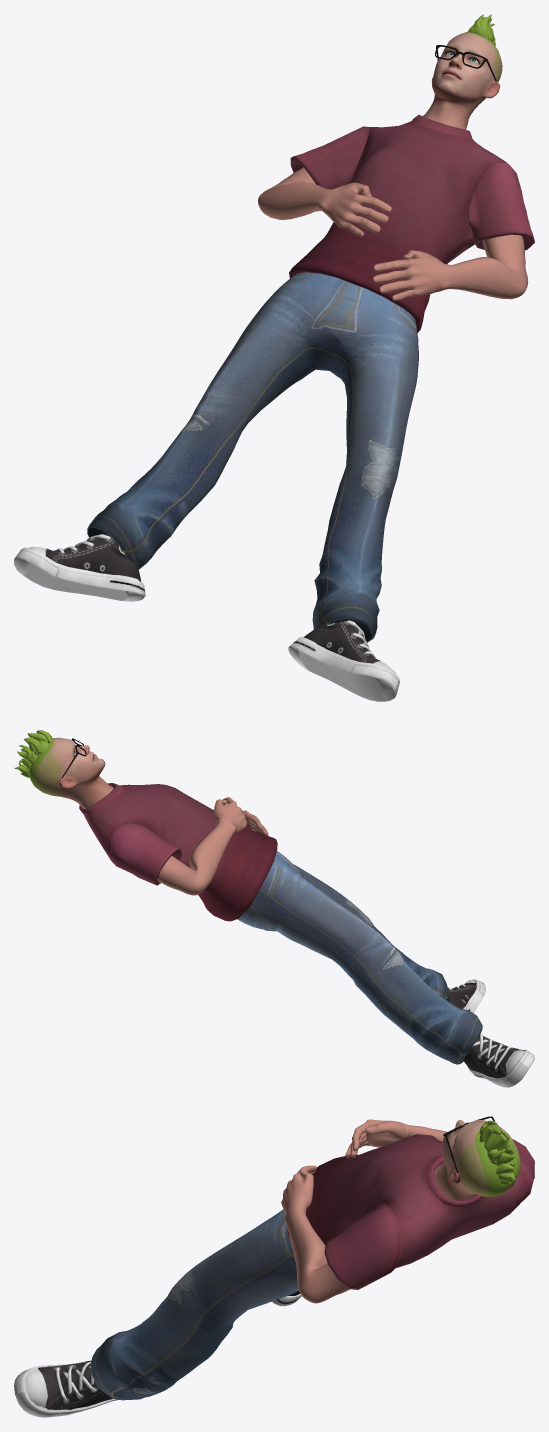
Rendered from natural_death.glb.
3 renders of one model, top to bottom at view 1: azimuth 30°, elevation 25°; view 2: azimuth 150°, elevation 25°; view 3: azimuth 270°, elevation 25°, orthographic. The views are drawn at different scales.
Visible parts, largest first — view 1: Object_19; view 2: Object_19; view 3: Object_19.
Boxes of the visible parts, x1,y1,x2,y2 form: Object_19: [14, 14, 534, 701]; Object_19: [14, 730, 534, 1087]; Object_19: [14, 1116, 534, 1417].
Size of the model in its own units: 1.68 by 1.26 by 1.3.
9 materials, 9 textured.
